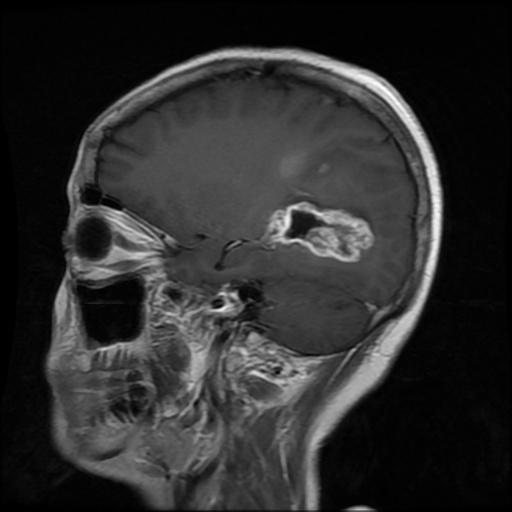glioma: (260, 201, 374, 261)
